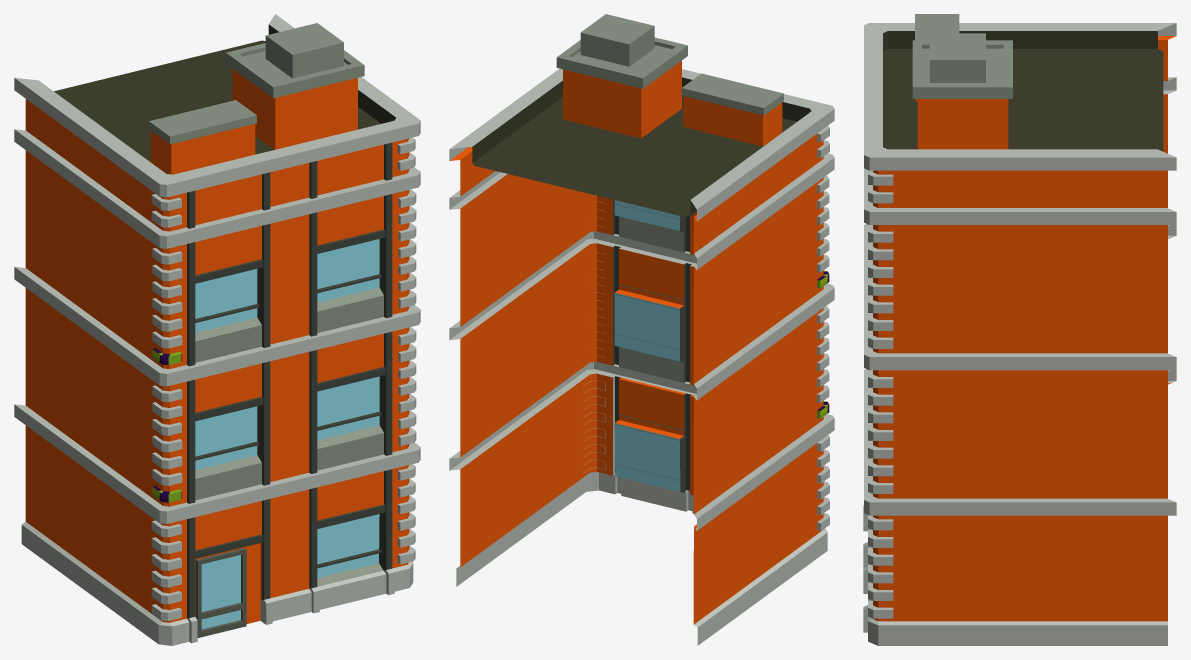
File: House5.2.fbx
3 views of the same model, side by side, from view 1: azimuth 30°, elevation 25°; view 2: azimuth 150°, elevation 25°; view 3: azimuth 270°, elevation 25° (orthographic). The views are drawn at different scales.
Visible parts, largest first — view 1: House2.003; view 2: House2.003; view 3: House2.003.
Boxes of the visible parts, bbox=[...] form: House2.003: bbox=[14, 14, 420, 645]; House2.003: bbox=[449, 14, 834, 645]; House2.003: bbox=[863, 14, 1176, 645].
Size of the model in its own units: 795 by 1550 by 782.
Materials: 1 (1 with a texture image).
